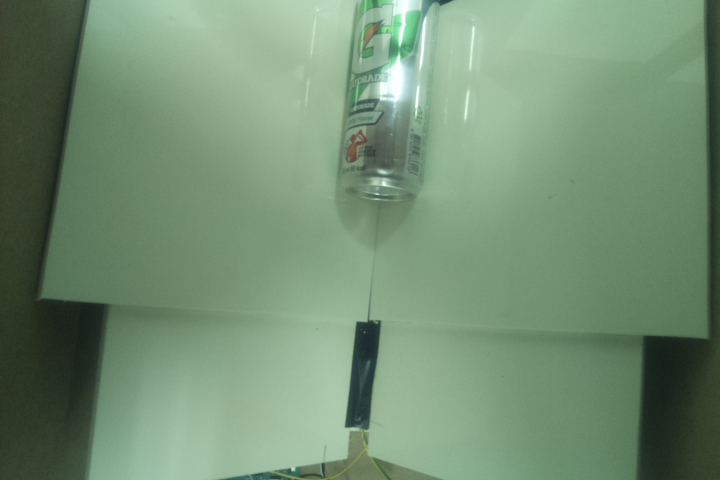can: (337, 1, 442, 204)
